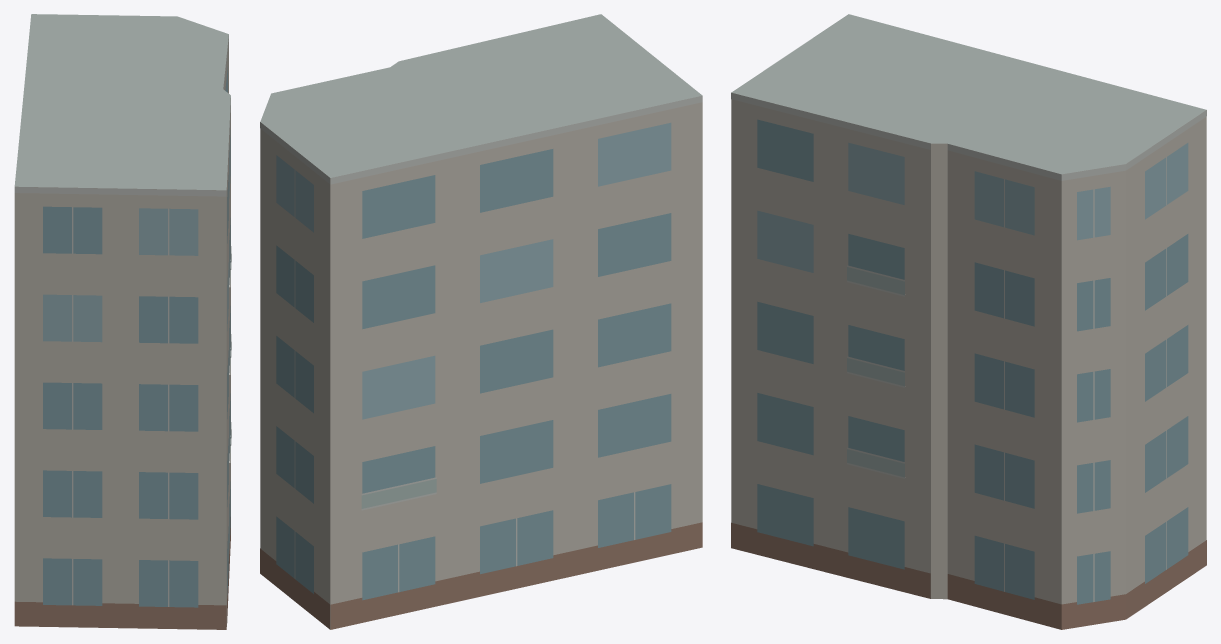
File: survey-upis-32517217.glb
The picture shows the model from 3 angles, left to right: view 1: azimuth 30°, elevation 25°; view 2: azimuth 150°, elevation 25°; view 3: azimuth 270°, elevation 25°; orthographic projection. The views are drawn at different scales.
Parts seen in each view (by area): view 1: survey-upis-32517217.tmp; view 2: survey-upis-32517217.tmp; view 3: survey-upis-32517217.tmp.
Boxes of the visible parts, <box> form: survey-upis-32517217.tmp: <box>14,14,231,629</box>; survey-upis-32517217.tmp: <box>260,14,702,629</box>; survey-upis-32517217.tmp: <box>731,14,1206,629</box>.
Bounding box in the file's own units: 12.77 × 16.9 × 16.
